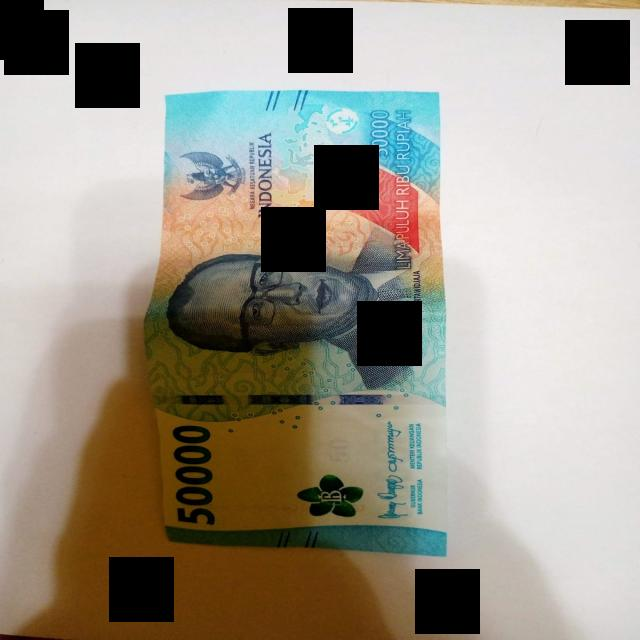lima puluh ribu rupiah: (145, 90, 447, 555)
